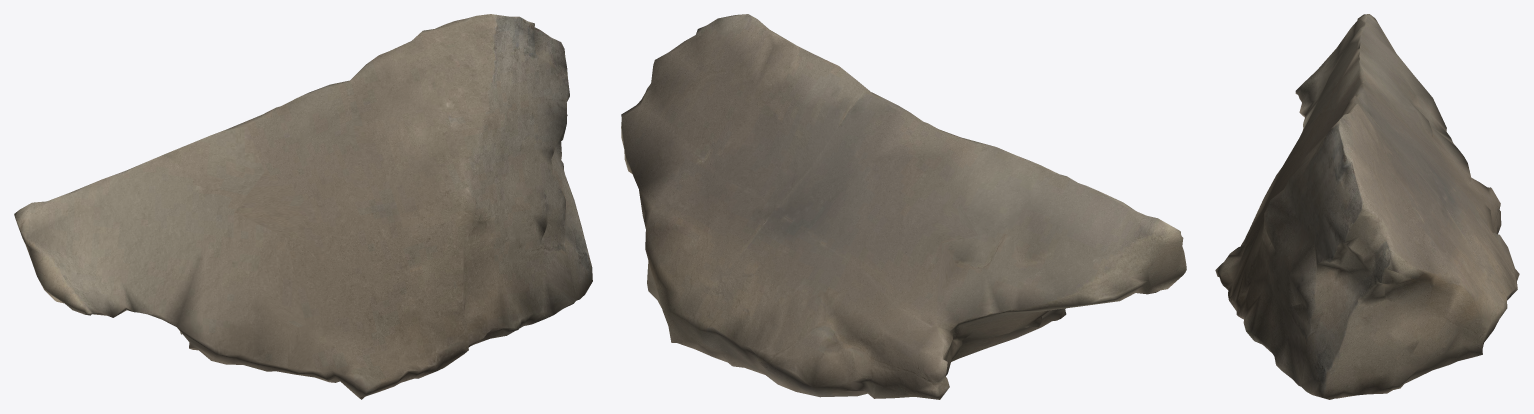
File: rock1low.glb
3 views of the same model, side by side, from view 1: azimuth 30°, elevation 25°; view 2: azimuth 150°, elevation 25°; view 3: azimuth 270°, elevation 25° (orthographic). The views are drawn at different scales.
Parts seen in each view (by area): view 1: rock1; view 2: rock1; view 3: rock1.
Part boxes in pixels (box(x1,y1,x2,y2)): rock1: box(14, 14, 592, 399); rock1: box(621, 14, 1186, 399); rock1: box(1215, 14, 1519, 399).
Bounding box in the file's own units: 1.23 × 0.6198 × 0.6765.
1 material, 1 textured.
